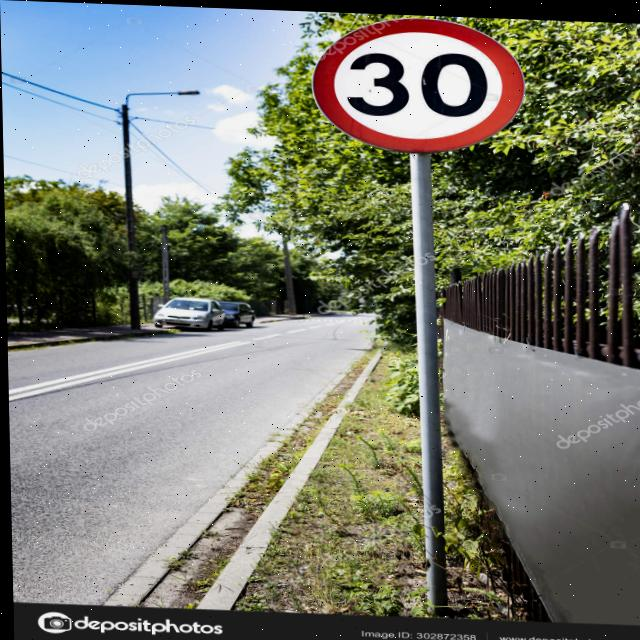Speed limit 30: (308, 12, 529, 156)
